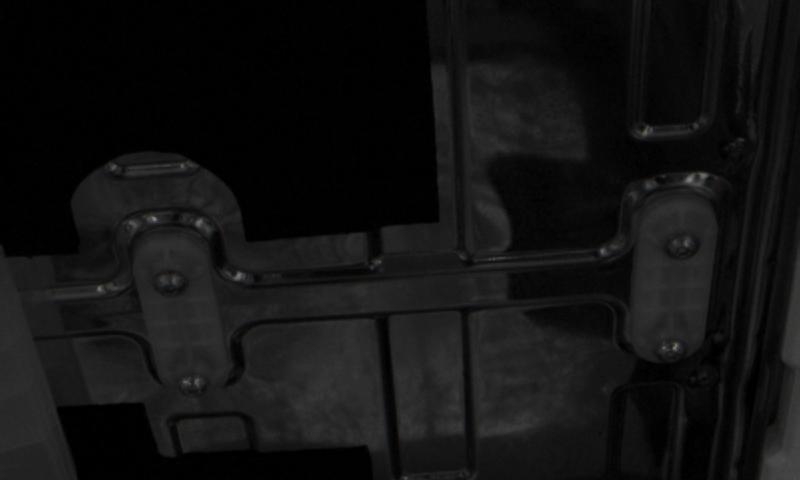vida-ok: (148, 267, 194, 311), (663, 227, 709, 270), (167, 363, 212, 403), (646, 333, 692, 372)
